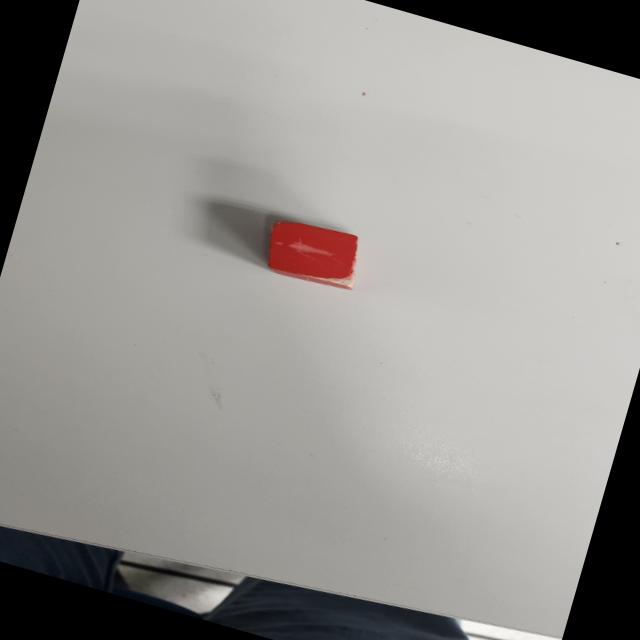broken: (261, 212, 363, 292)
